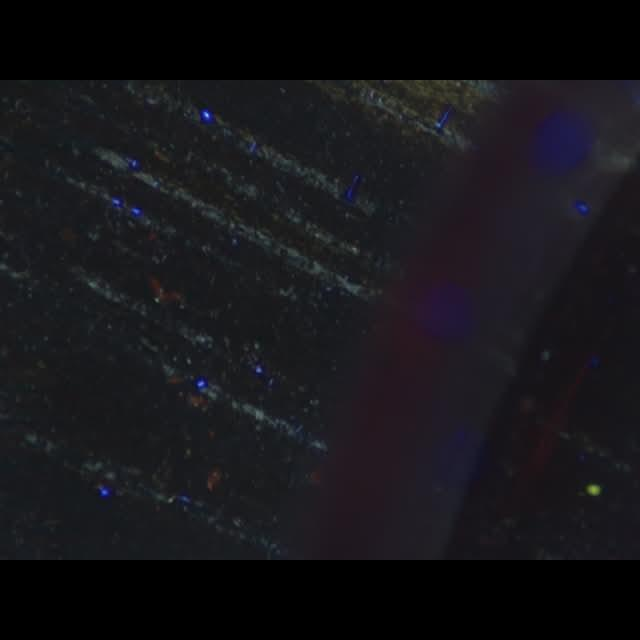microbeads: (587, 480, 601, 500)
